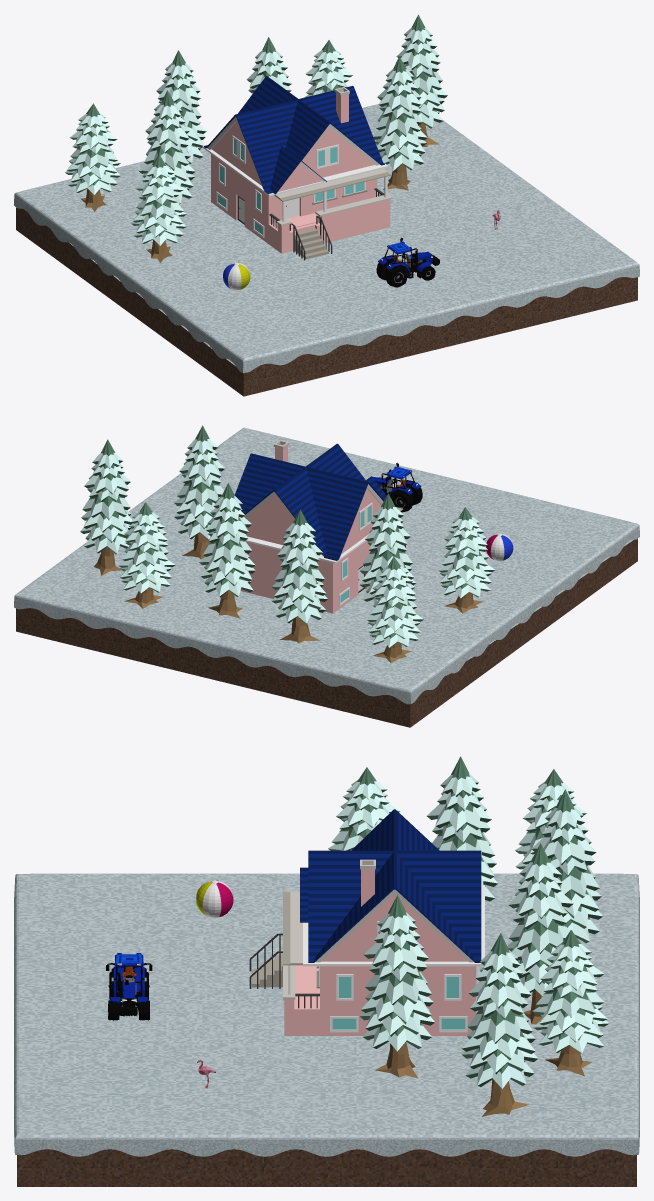
The picture shows the model from 3 angles, top to bottom: view 1: azimuth 30°, elevation 25°; view 2: azimuth 150°, elevation 25°; view 3: azimuth 270°, elevation 25°; orthographic projection. The views are drawn at different scales.
Parts seen in each view (by area): view 1: Cube.003, Cube.313, VEHICLES_TRACTOR, OBJRANDOM_BEACHBALL; view 2: Cube.003, Cube.313, VEHICLES_TRACTOR, OBJRANDOM_BEACHBALL; view 3: Cube.003, Cube.313, VEHICLES_TRACTOR, OBJRANDOM_BEACHBALL.
Boxes of the visible parts, x1,y1,x2,y2 form: Cube.003: [14, 14, 639, 396]; Cube.313: [202, 76, 393, 260]; VEHICLES_TRACTOR: [376, 237, 439, 287]; OBJRANDOM_BEACHBALL: [223, 262, 250, 290]; Cube.003: [14, 425, 639, 727]; Cube.313: [235, 440, 405, 613]; VEHICLES_TRACTOR: [366, 462, 422, 512]; OBJRANDOM_BEACHBALL: [486, 533, 513, 560]; Cube.003: [14, 756, 639, 1186]; Cube.313: [249, 809, 484, 1035]; VEHICLES_TRACTOR: [106, 953, 152, 1020]; OBJRANDOM_BEACHBALL: [196, 880, 233, 917].
Size of the model in its own units: 4040 by 1665 by 4040.
Materials: 32 (3 with a texture image).
